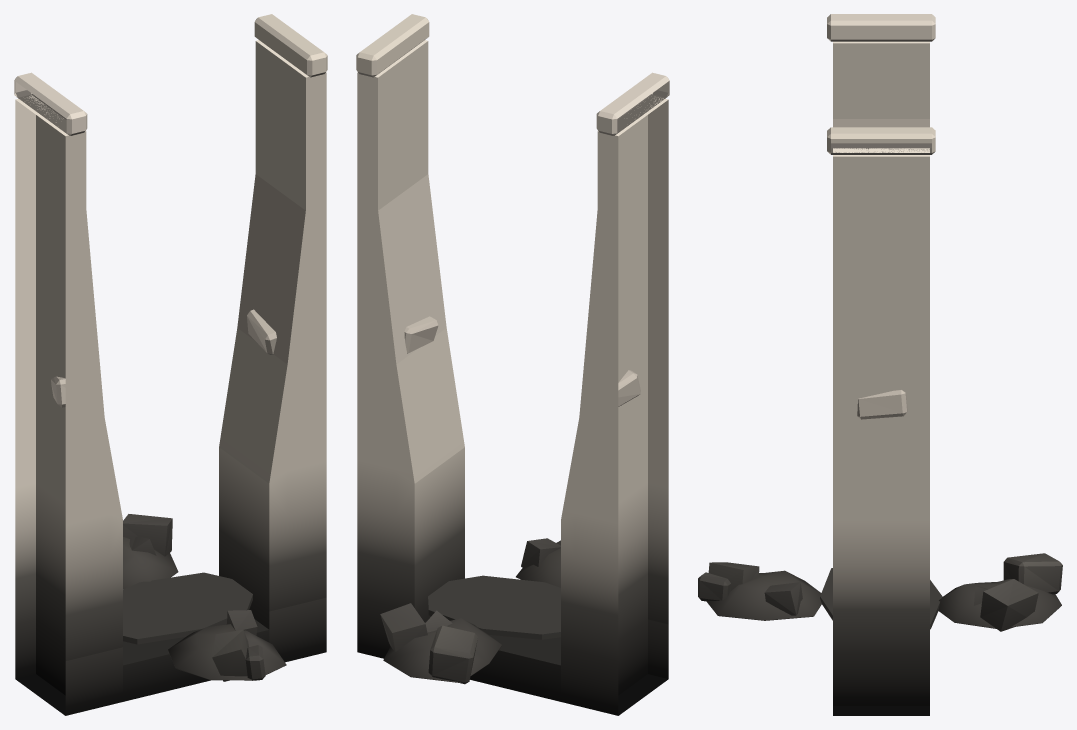
The model's file is SM_VKI_Wall_Sewer_Breach_150_Full.fbx.
3 renders of one model, left to right at view 1: azimuth 30°, elevation 25°; view 2: azimuth 150°, elevation 25°; view 3: azimuth 270°, elevation 25°, orthographic. The views are drawn at different scales.
Visible parts, largest first — view 1: SM_VKI_Wall_Sewer_Breach_150_Full.001; view 2: SM_VKI_Wall_Sewer_Breach_150_Full.001; view 3: SM_VKI_Wall_Sewer_Breach_150_Full.001.
Part boxes in pixels (bbox=[...]): SM_VKI_Wall_Sewer_Breach_150_Full.001: bbox=[14, 14, 327, 715]; SM_VKI_Wall_Sewer_Breach_150_Full.001: bbox=[356, 14, 669, 715]; SM_VKI_Wall_Sewer_Breach_150_Full.001: bbox=[698, 14, 1062, 715].
Size of the model in its own units: 1.5 by 3.3 by 1.88.
